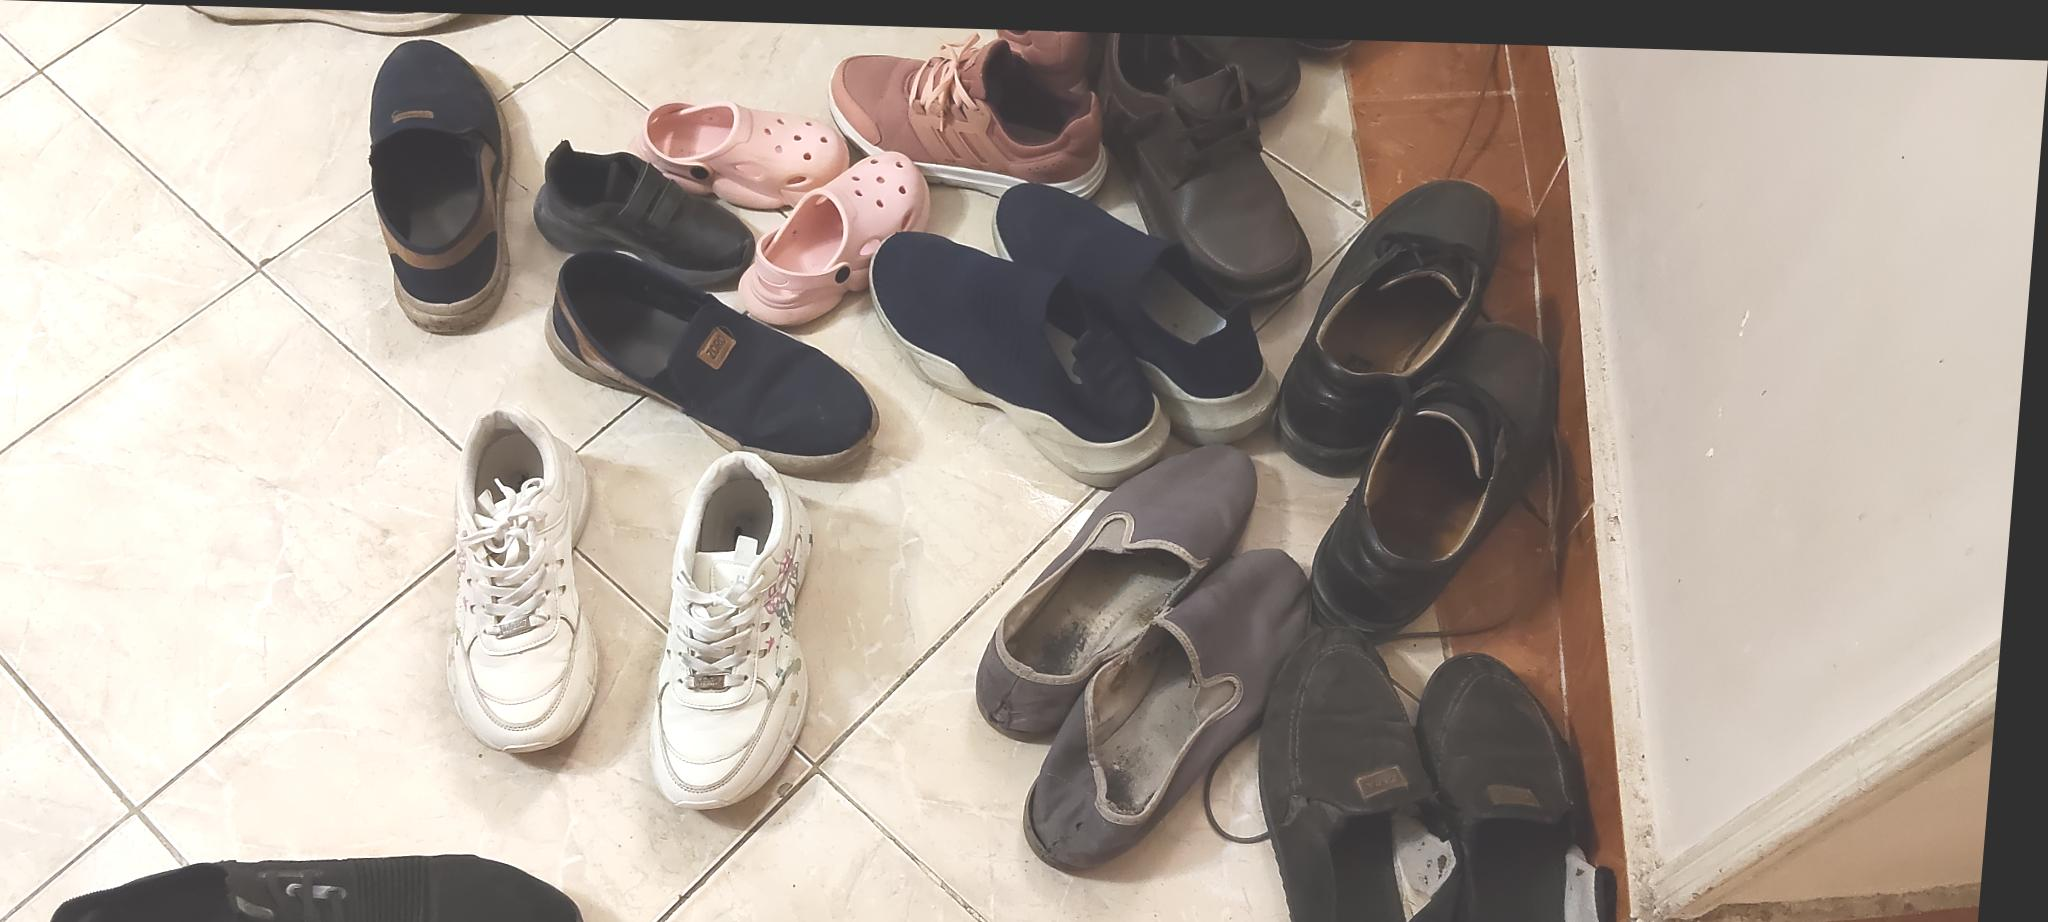Shoes: (1020, 541, 1312, 881), (971, 437, 1260, 746), (852, 227, 1190, 490), (975, 181, 1301, 448), (534, 249, 894, 478), (1304, 319, 1555, 647), (1066, 32, 1337, 310), (1278, 173, 1514, 476), (1394, 646, 1646, 922), (644, 449, 830, 815), (1243, 628, 1473, 922), (438, 410, 621, 757), (350, 35, 530, 336), (823, 30, 1120, 203), (49, 842, 593, 922), (734, 146, 937, 329), (529, 139, 767, 290), (638, 99, 858, 211)
